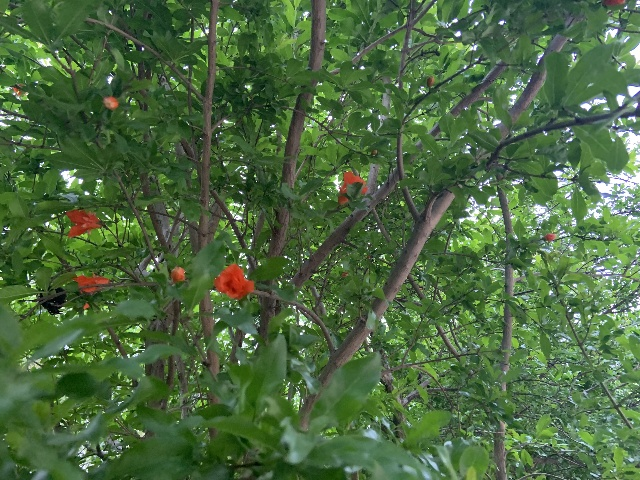bud: (170, 266, 185, 282), (103, 96, 118, 109), (543, 233, 556, 241), (426, 76, 434, 87)
flower: (212, 263, 254, 299), (72, 272, 109, 309), (65, 208, 102, 238), (338, 169, 367, 204), (12, 84, 26, 96)
